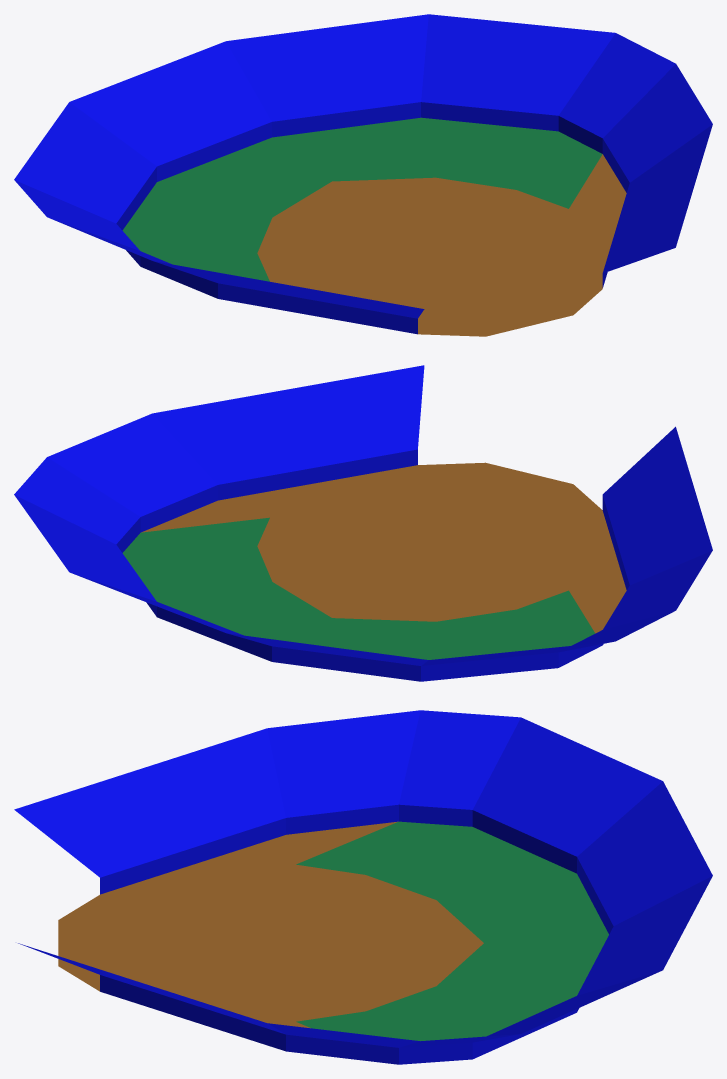
Rendered from baseball-studium.glb.
3 renders of one model, top to bottom at view 1: azimuth 30°, elevation 25°; view 2: azimuth 150°, elevation 25°; view 3: azimuth 270°, elevation 25°, orthographic. The views are drawn at different scales.
Visible parts, largest first — view 1: Stadium; view 2: Stadium; view 3: Stadium.
Part boxes in pixels (box(x1,y1,x2,y2)): Stadium: box(14, 14, 712, 336); Stadium: box(14, 365, 712, 681); Stadium: box(14, 710, 712, 1064).
Bounding box in the file's own units: 30.98 × 2.95 × 27.65.
